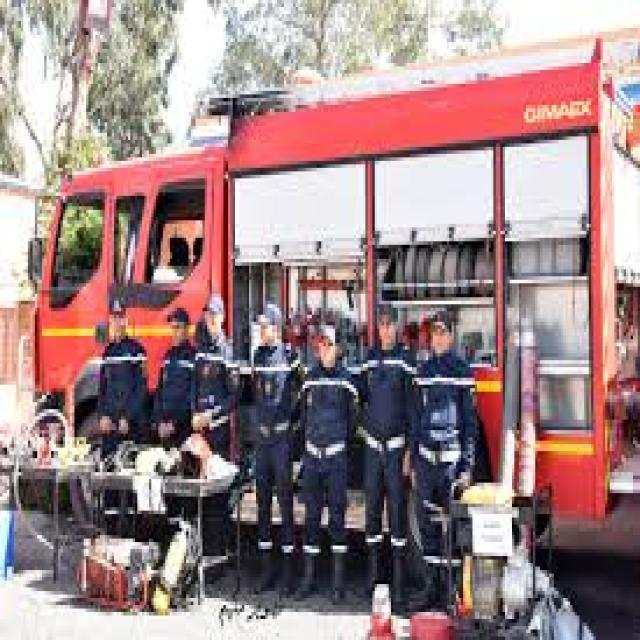pompier: (33, 57, 640, 425)
